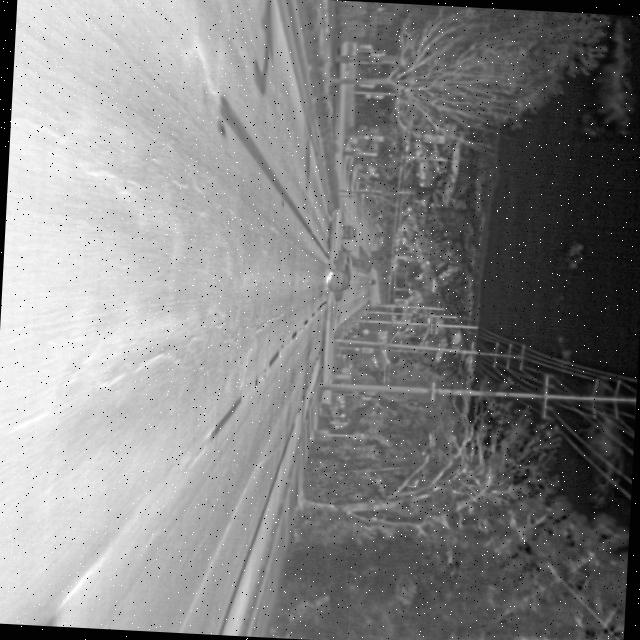Vehicle: (329, 250, 354, 303), (325, 268, 350, 294), (338, 224, 358, 242)
